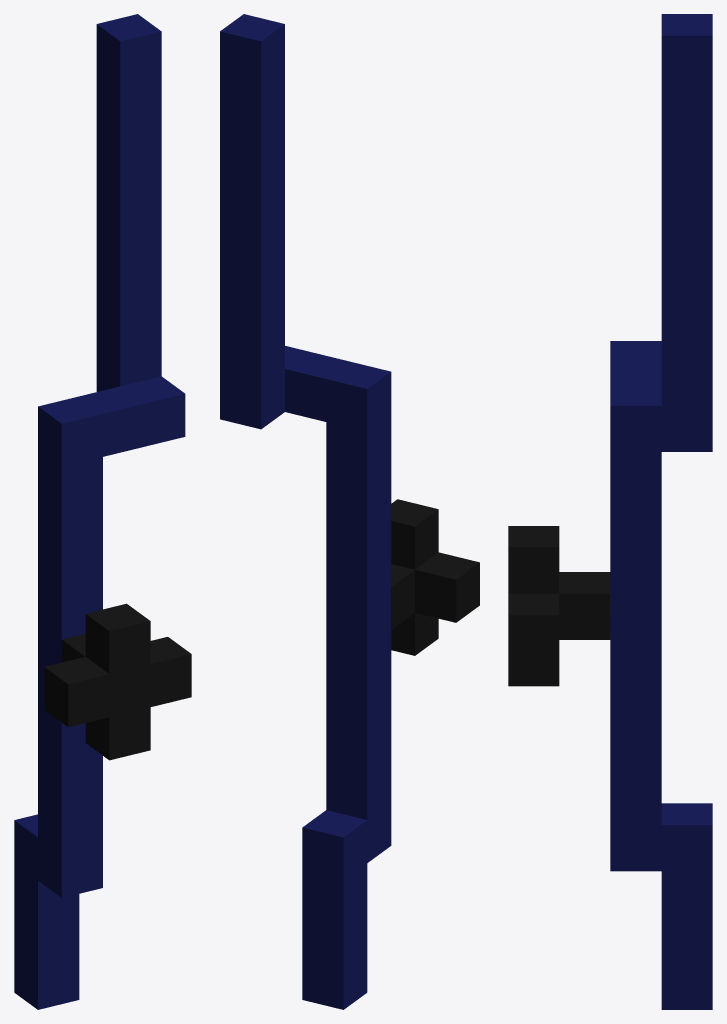
The model's file is BLUEpipeUpWithValve01.fbx.
3 renders of one model, left to right at view 1: azimuth 30°, elevation 25°; view 2: azimuth 150°, elevation 25°; view 3: azimuth 270°, elevation 25°, orthographic. The views are drawn at different scales.
Parts seen in each view (by area): view 1: Matrix; view 2: Matrix; view 3: Matrix.
Boxes of the visible parts, x1,y1,x2,y2 form: Matrix: (14,14,191,1009); Matrix: (220,14,479,1009); Matrix: (508,14,712,1009).
Size of the model in its own units: 4 by 22 by 4.
